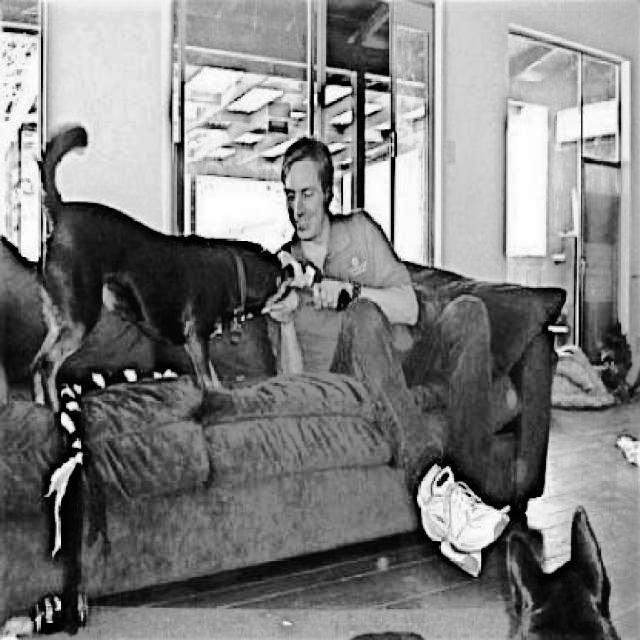Dog: (32, 118, 298, 414)
Person: (279, 129, 513, 583)
